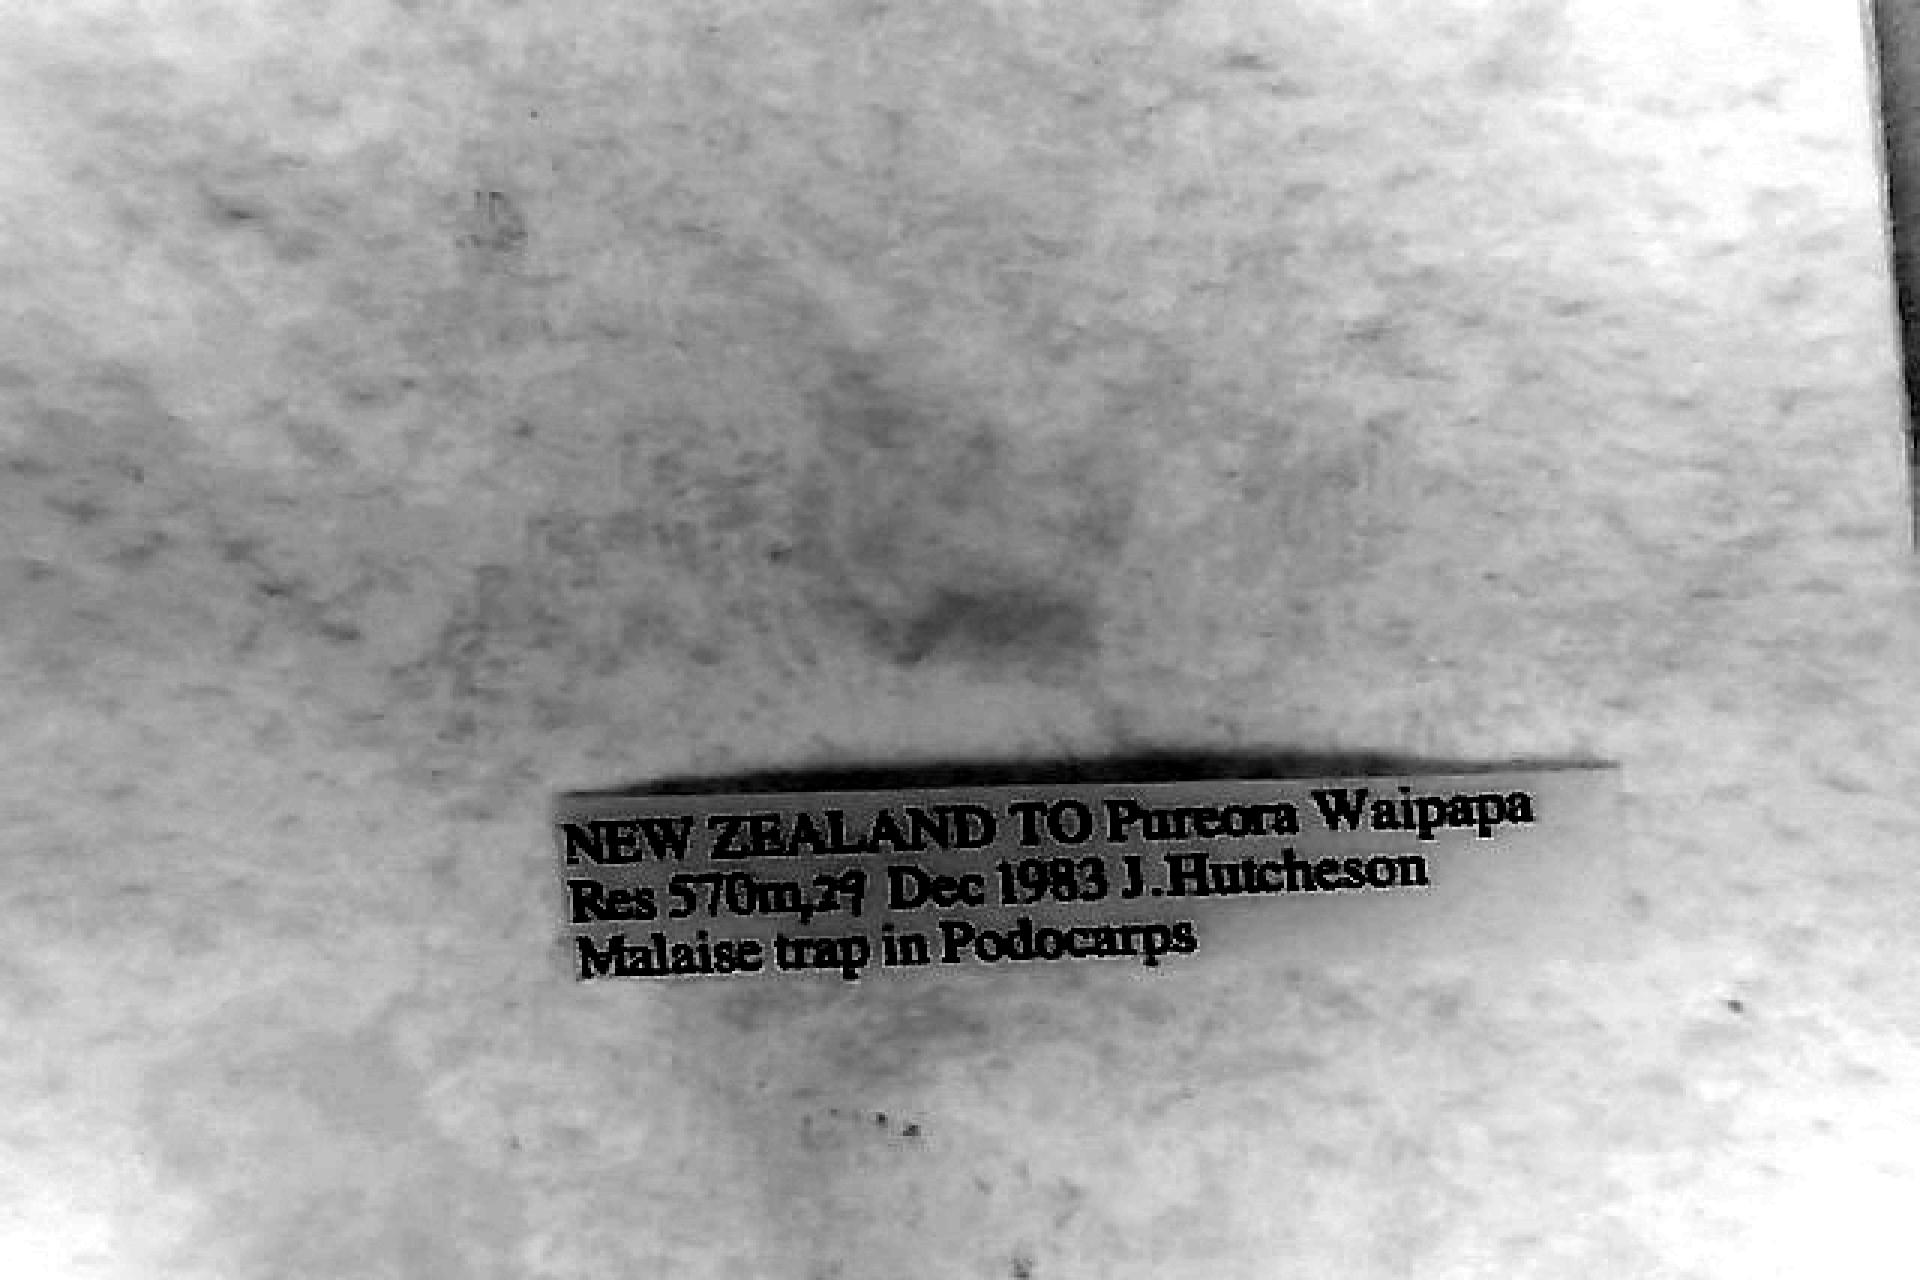typed_label: (559, 775, 1612, 980)
